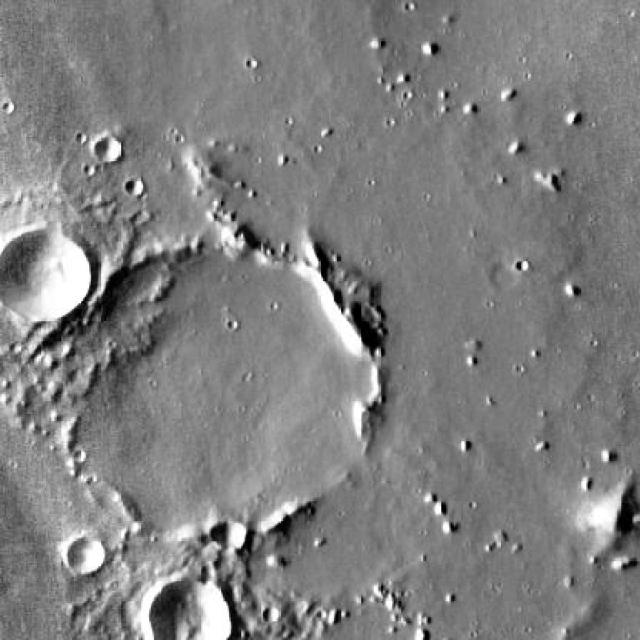crater: (67, 237, 379, 534), (0, 223, 98, 319), (155, 577, 243, 640), (69, 538, 108, 574), (218, 515, 252, 548), (492, 263, 519, 289), (95, 137, 120, 161), (125, 178, 144, 195)
